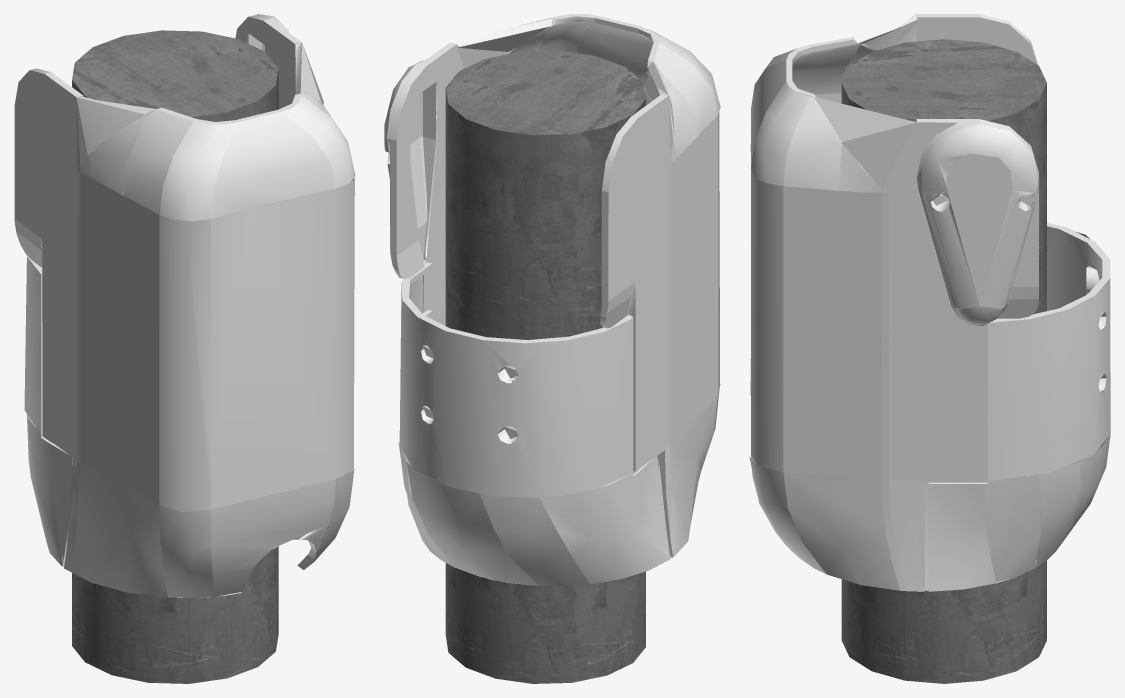
File: icub_l_arm.dae
3 renders of one model, left to right at view 1: azimuth 30°, elevation 25°; view 2: azimuth 150°, elevation 25°; view 3: azimuth 270°, elevation 25°, orthographic. The views are drawn at different scales.
Parts seen in each view (by area): view 1: l_arm_cyl_mesh; view 2: l_arm_cyl_mesh; view 3: l_arm_cyl_mesh.
Part boxes in pixels (left/top/right/bottom): l_arm_cyl_mesh: left=14, top=14, right=355, bottom=683; l_arm_cyl_mesh: left=384, top=14, right=720, bottom=683; l_arm_cyl_mesh: left=749, top=14, right=1110, bottom=683.
Size of the model in its own units: 0.0716 by 0.0916 by 0.1601.
Materials: 1 (1 with a texture image).
